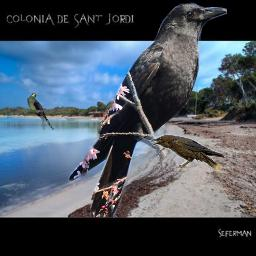Crow: (68, 2, 227, 217), (149, 133, 227, 171)
Cuckoo: (27, 93, 56, 130)
